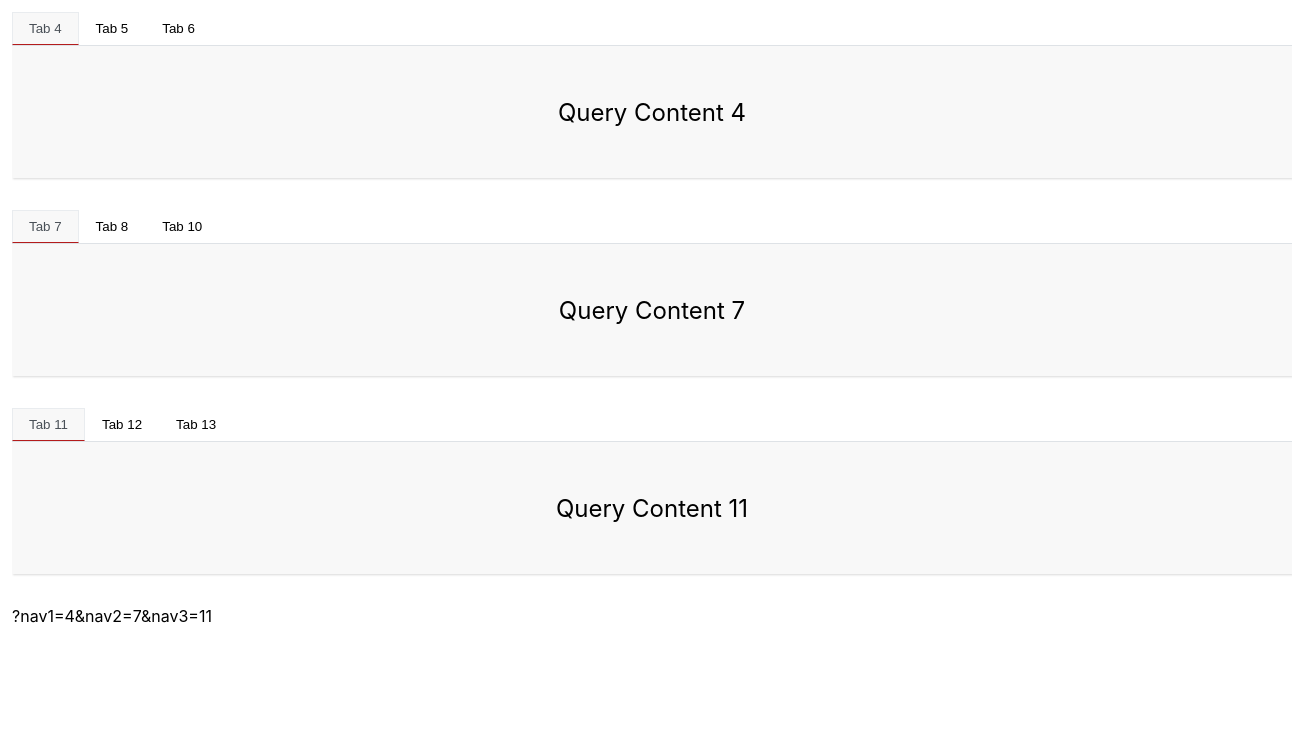
Test: search query
The width and height of the screenshot is (1292, 732).
Expected: the text "Query Content 4" is shown, [558,98,746,126]
Expected: the text "Query Content 7" is shown, [559,296,745,324]
Click the tab "Tab 5".
click(112, 28)  # box [79,12,145,45]
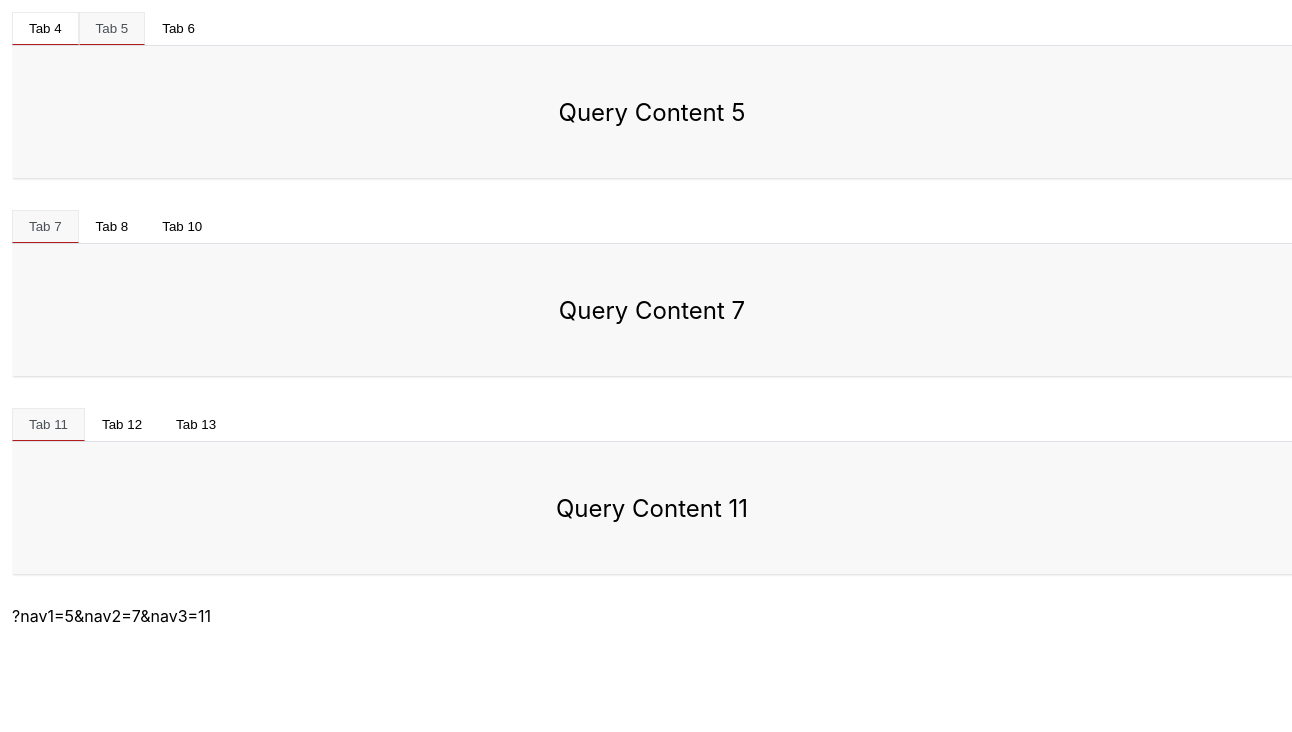
Click the tab "Tab 8".
click(112, 226)  # box [79,210,145,243]
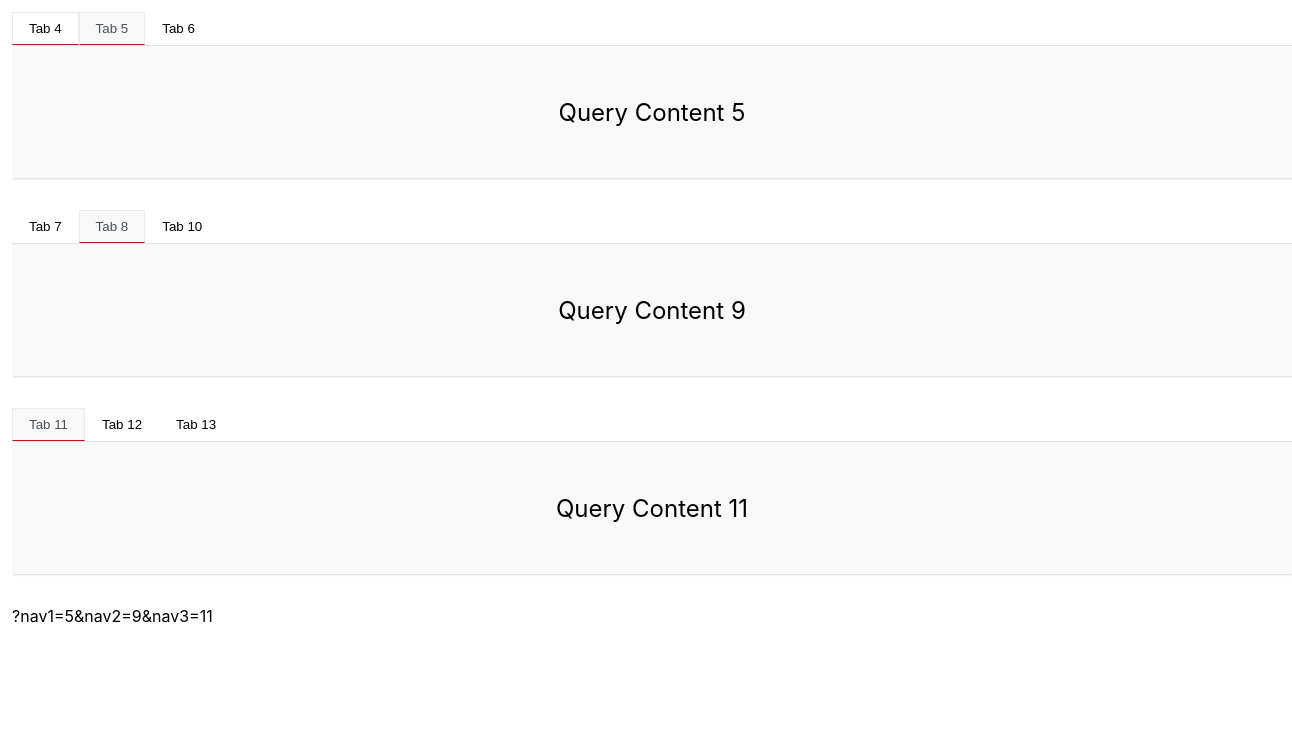
Click the tab "Tab 13".
click(196, 424)  # box [159,408,233,441]
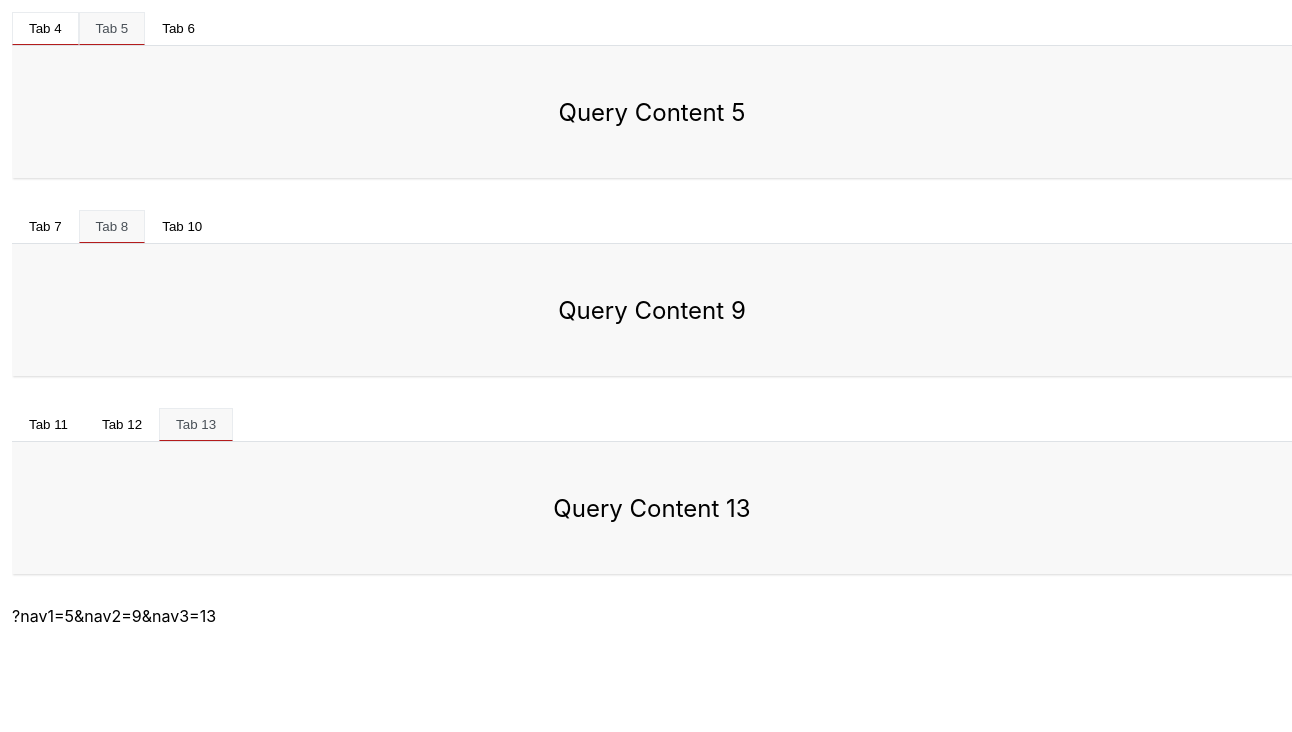
Now the text "Query Content 5" is shown, box [558,98,745,126]
Now the text "Query Content 9" is shown, box [558,296,746,324]
Now the text "?nav1=5&nav2=9&nav3=13" is shown, box [12,606,216,626]
